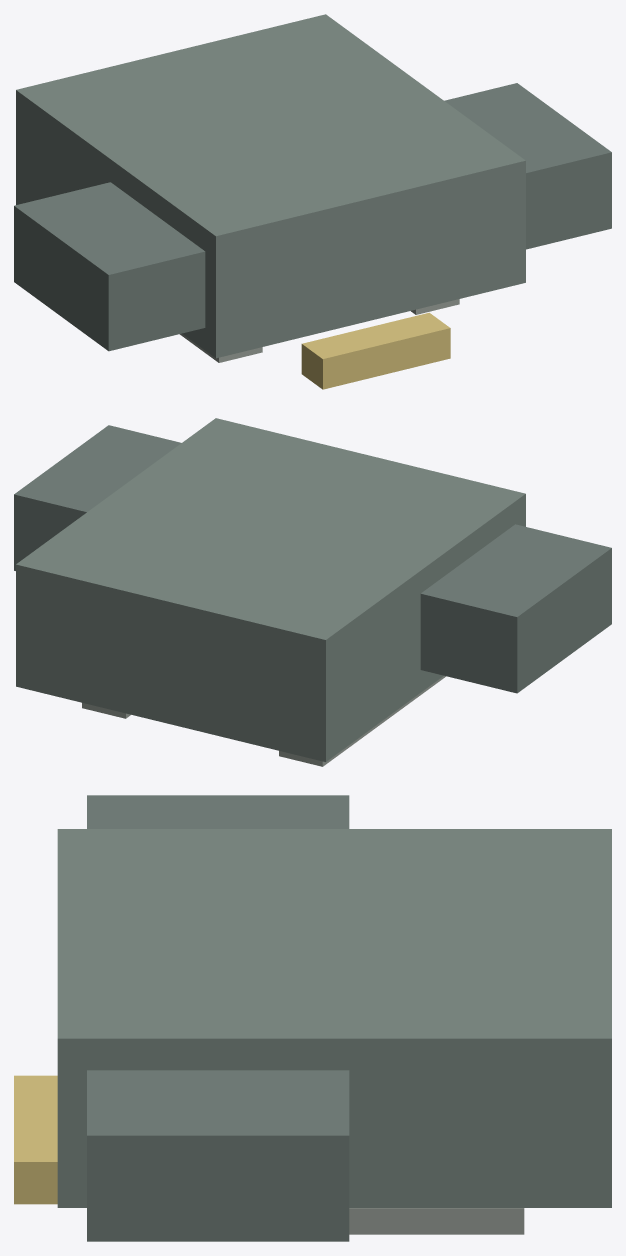
File: armor_vest.glb
The picture shows the model from 3 angles, top to bottom: view 1: azimuth 30°, elevation 25°; view 2: azimuth 150°, elevation 25°; view 3: azimuth 270°, elevation 25°; orthographic projection. The views are drawn at different scales.
Visible parts, largest first — view 1: part_0, part_1, part_2, part_6; view 2: part_0, part_1, part_2, part_4; view 3: part_0, part_2, part_1, part_6, part_5.
Boxes of the visible parts, x1,y1,x2,y2 form: part_0: (16, 14, 525, 358); part_1: (14, 182, 205, 351); part_2: (444, 83, 611, 249); part_6: (301, 312, 450, 389); part_0: (16, 418, 525, 761); part_1: (420, 524, 611, 693); part_2: (14, 425, 181, 570); part_4: (279, 675, 445, 766); part_0: (57, 829, 611, 1207); part_2: (87, 1070, 349, 1241); part_1: (87, 795, 349, 828); part_6: (14, 1075, 57, 1204); part_5: (349, 1208, 524, 1234).
Bounding box in the file's own units: 1.38 × 0.43 × 1.02.
